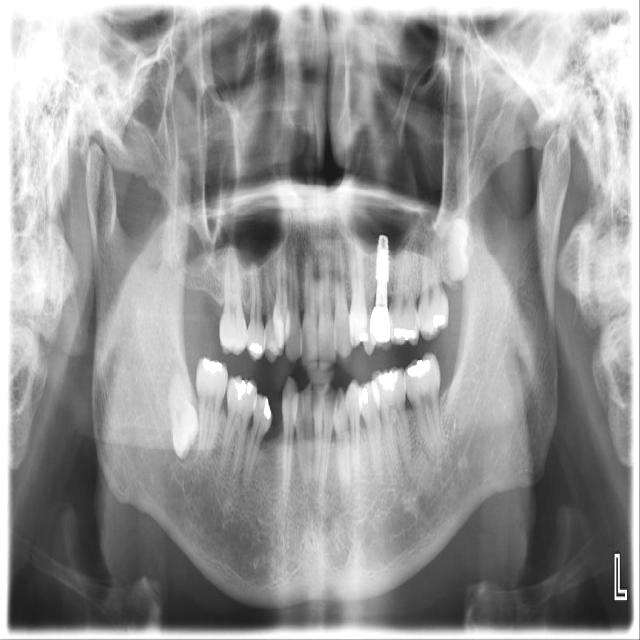Crown: (369, 305, 394, 351)
Filling: (245, 321, 266, 365), (229, 378, 255, 406), (374, 370, 399, 394), (407, 359, 431, 381), (201, 358, 226, 376), (429, 311, 448, 331), (393, 328, 417, 343), (352, 328, 371, 344), (357, 384, 369, 408), (262, 398, 274, 421)
Implant: (375, 234, 388, 281)
Missing teeth: (184, 289, 223, 344), (257, 386, 284, 449)
impacted tooth: (399, 218, 472, 280), (170, 368, 200, 458)
